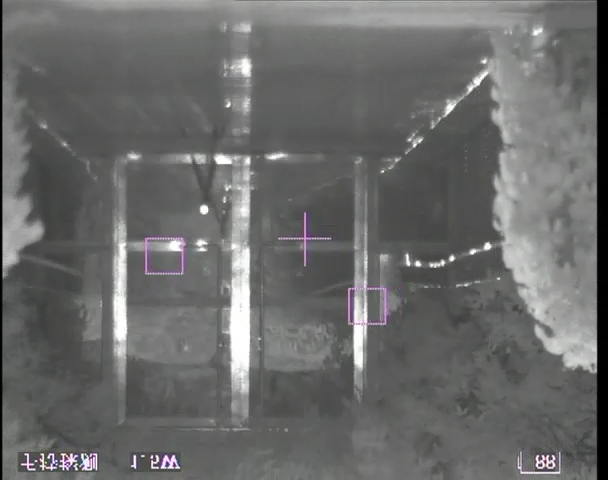my: (198, 204, 211, 215)
